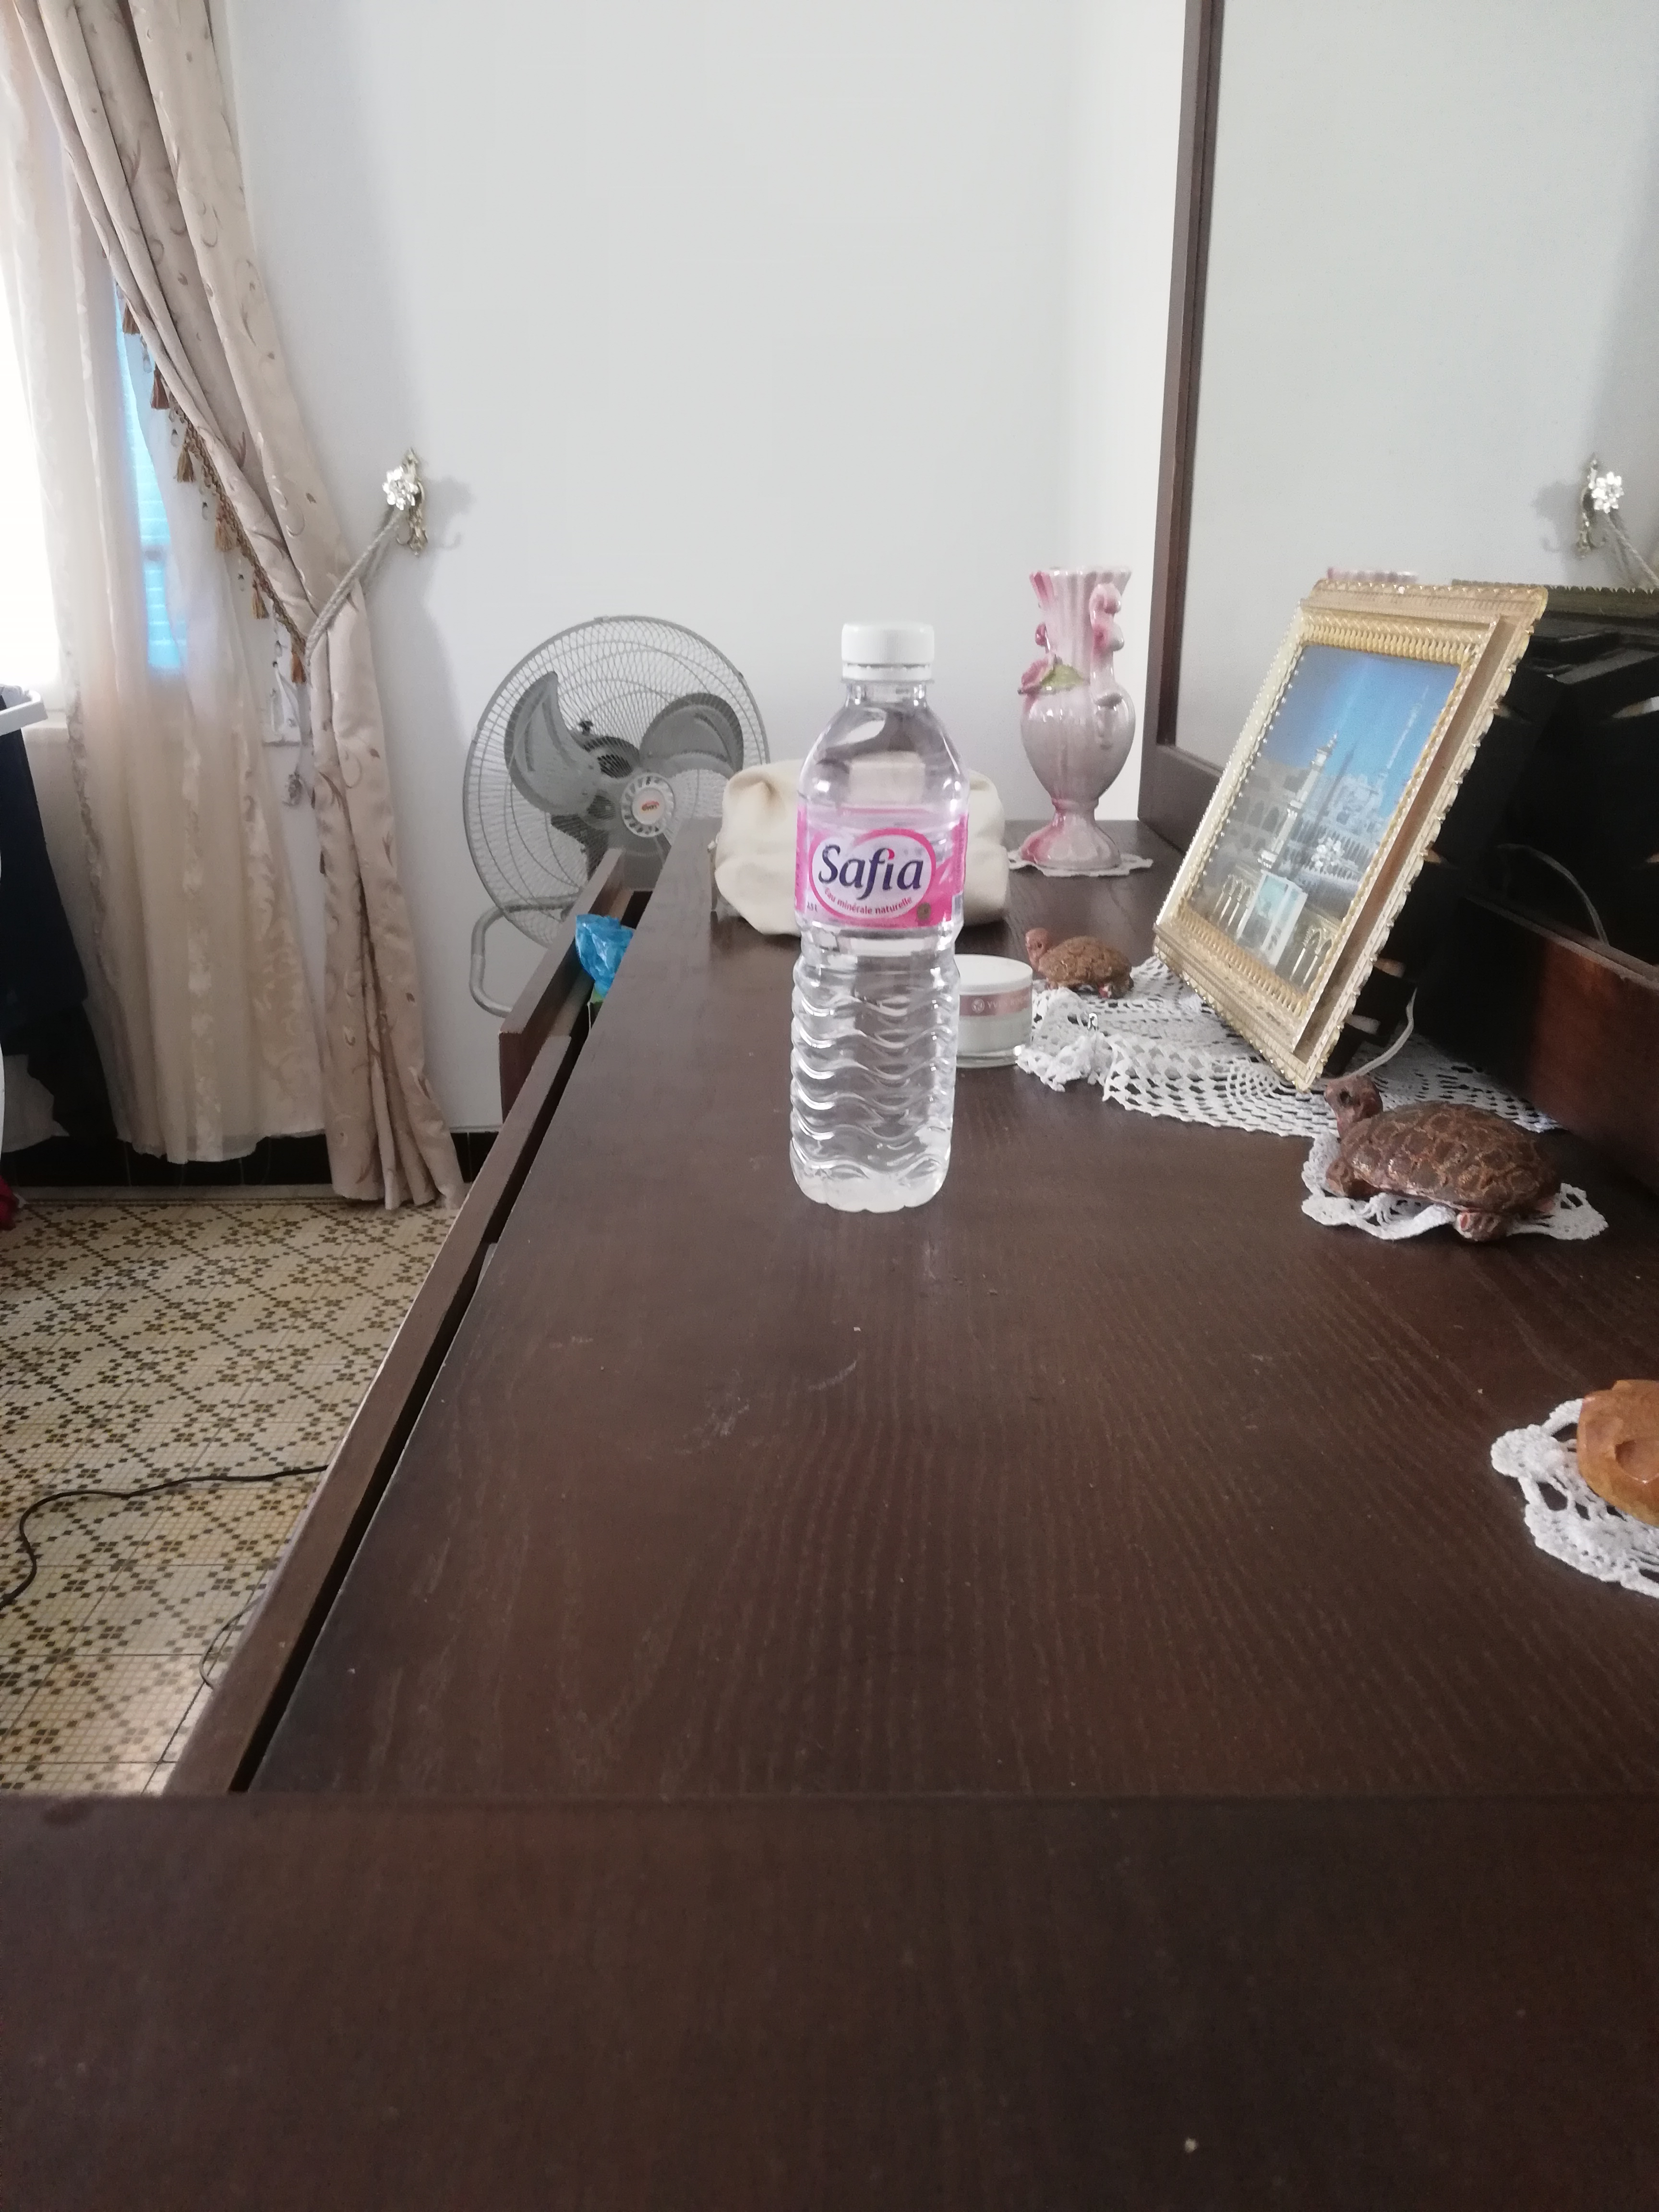Eau safia: (777, 622, 969, 1216)
